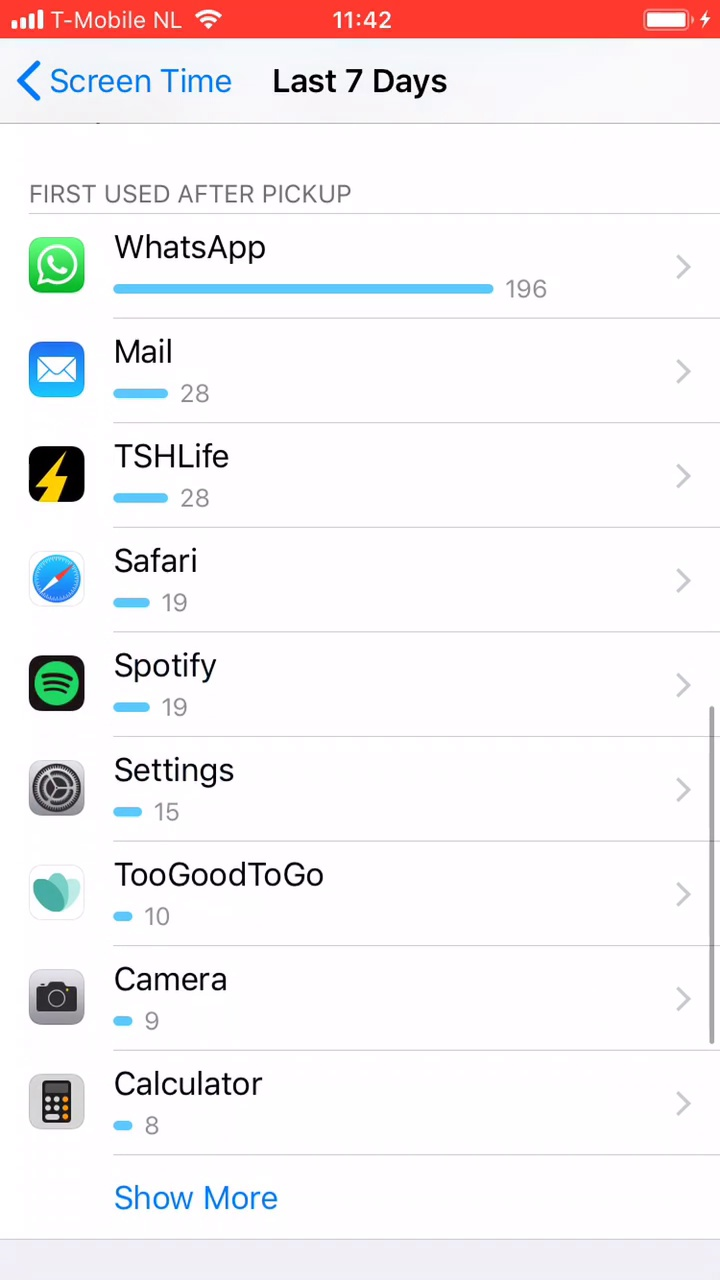pick_app: (32, 214, 592, 322), (17, 849, 439, 949), (15, 741, 400, 841), (18, 947, 353, 1060), (18, 638, 378, 738), (18, 1063, 393, 1157), (17, 535, 350, 636), (12, 427, 331, 528), (25, 327, 320, 421)
week: (262, 56, 466, 103)
